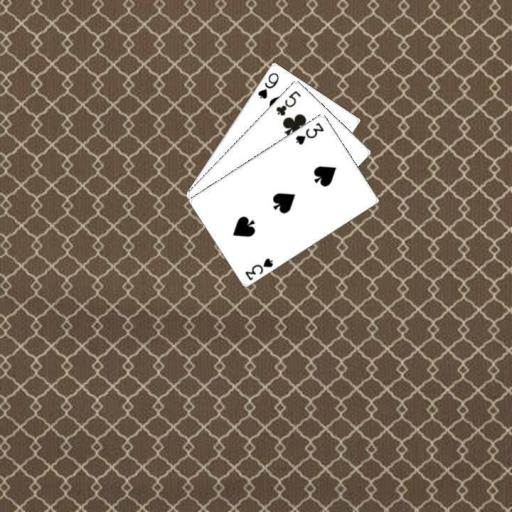card-corner: (272, 87, 302, 117), (242, 254, 274, 282), (292, 119, 325, 146), (255, 69, 280, 100)
